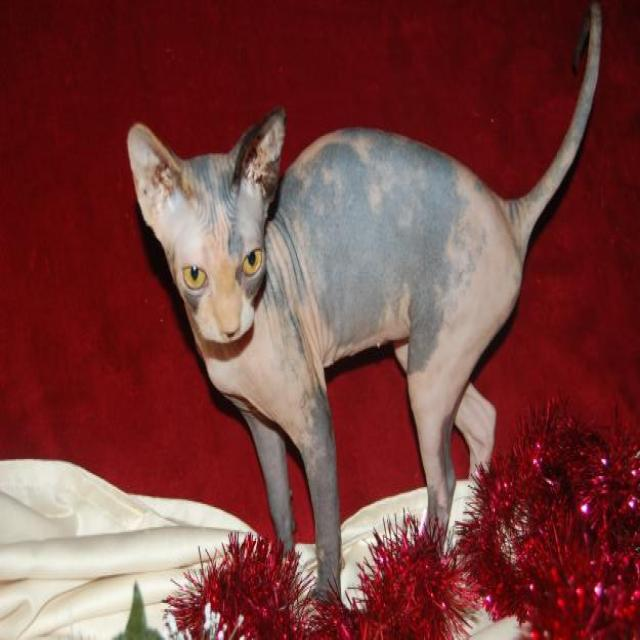Sphynx: (124, 106, 290, 355)
